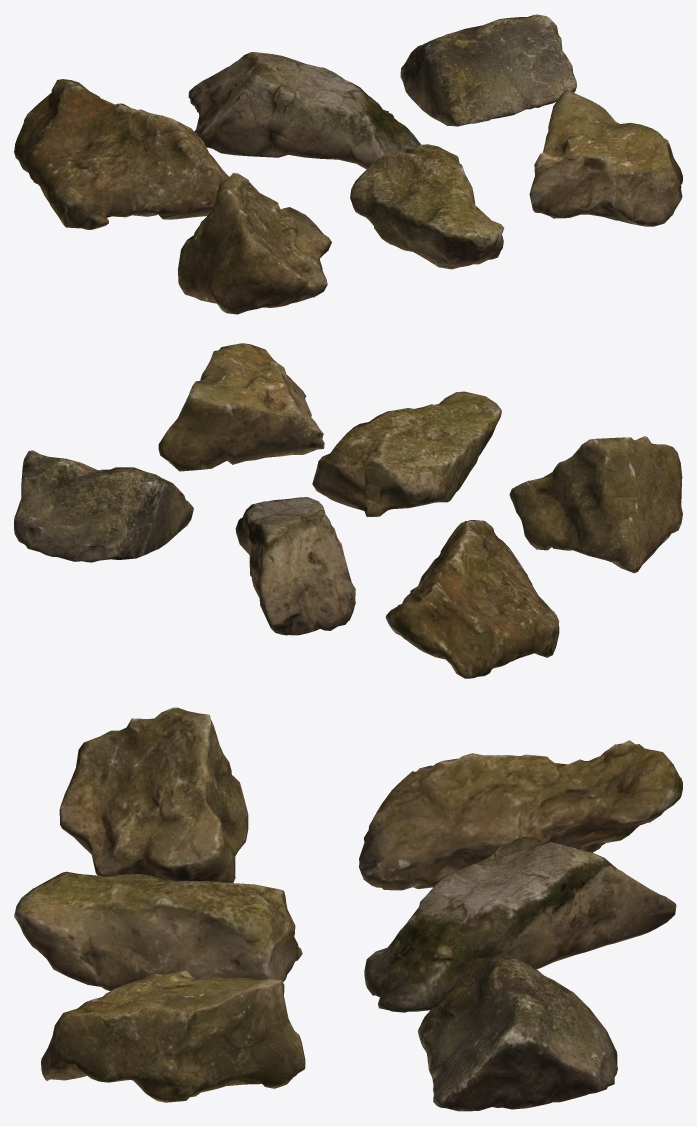
File: rock_moss_set_01.glb
3 renders of one model, top to bottom at view 1: azimuth 30°, elevation 25°; view 2: azimuth 150°, elevation 25°; view 3: azimuth 270°, elevation 25°, orthographic. The views are drawn at different scales.
Parts seen in each view (by area): view 1: rock_moss_set_01_rock01; view 2: rock_moss_set_01_rock01; view 3: rock_moss_set_01_rock01.
Part boxes in pixels (x1,y1,x2,y2): rock_moss_set_01_rock01: [14, 14, 682, 314]; rock_moss_set_01_rock01: [14, 343, 682, 678]; rock_moss_set_01_rock01: [14, 707, 682, 1111].
Size of the model in its own units: 8 by 1.76 by 6.94.
1 material, 1 textured.
